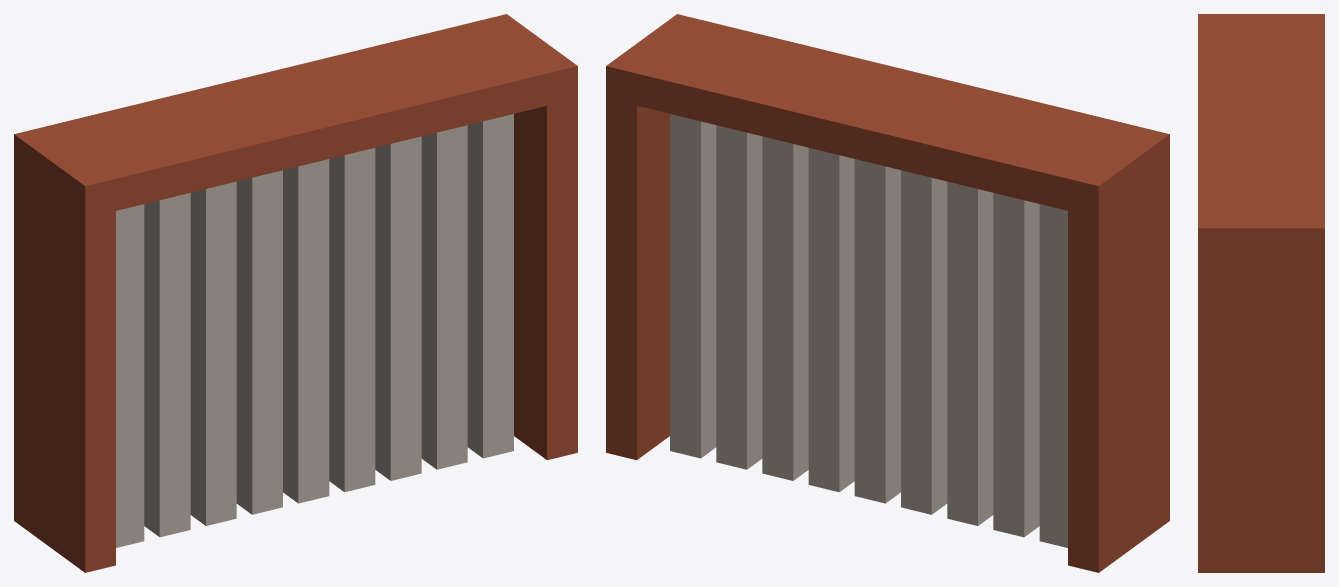
Rendered from Gate.obj.
3 renders of one model, left to right at view 1: azimuth 30°, elevation 25°; view 2: azimuth 150°, elevation 25°; view 3: azimuth 270°, elevation 25°, orthographic. The views are drawn at different scales.
Bounding box in the file's own units: 3.2 × 2.4 × 0.8.
1 material, 1 textured.
